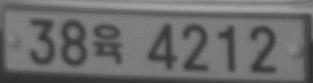1: (218, 25, 241, 71)
2: (182, 23, 208, 70), (251, 25, 275, 73)
3: (29, 18, 53, 63)
4: (148, 23, 178, 69)
8: (61, 19, 87, 64)
육: (93, 24, 122, 64)
